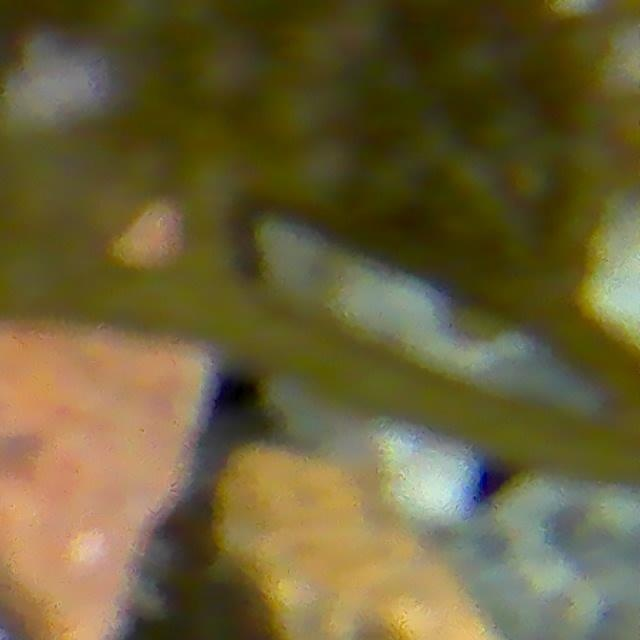SeaGrape: (279, 134, 363, 216), (177, 33, 273, 104), (257, 78, 334, 151), (442, 27, 515, 100), (93, 0, 182, 49), (504, 152, 562, 210)
